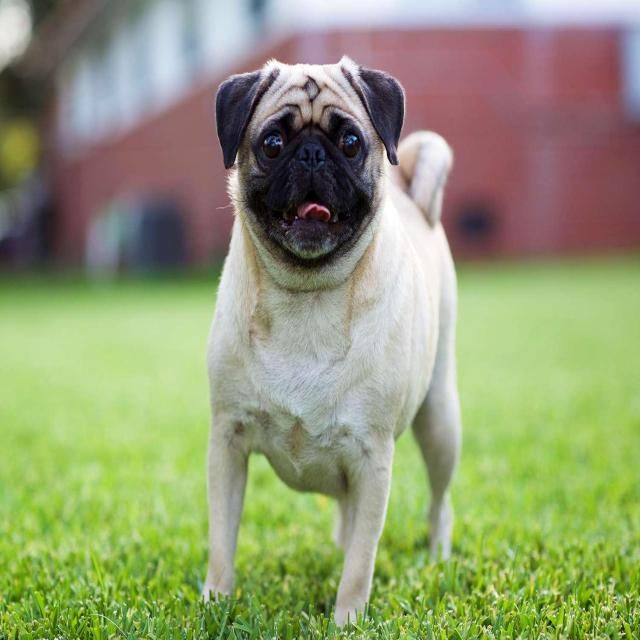Dog: (176, 24, 439, 330)
